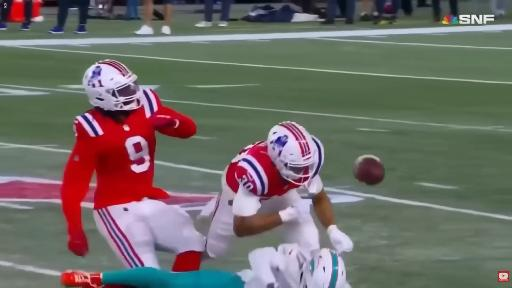Helmet: (267, 122, 317, 184), (83, 60, 142, 110), (300, 248, 346, 287)
Jersey: (62, 90, 195, 225), (226, 141, 300, 199), (241, 244, 310, 287)
Player: (62, 60, 205, 270), (207, 122, 353, 257), (61, 244, 350, 287)
